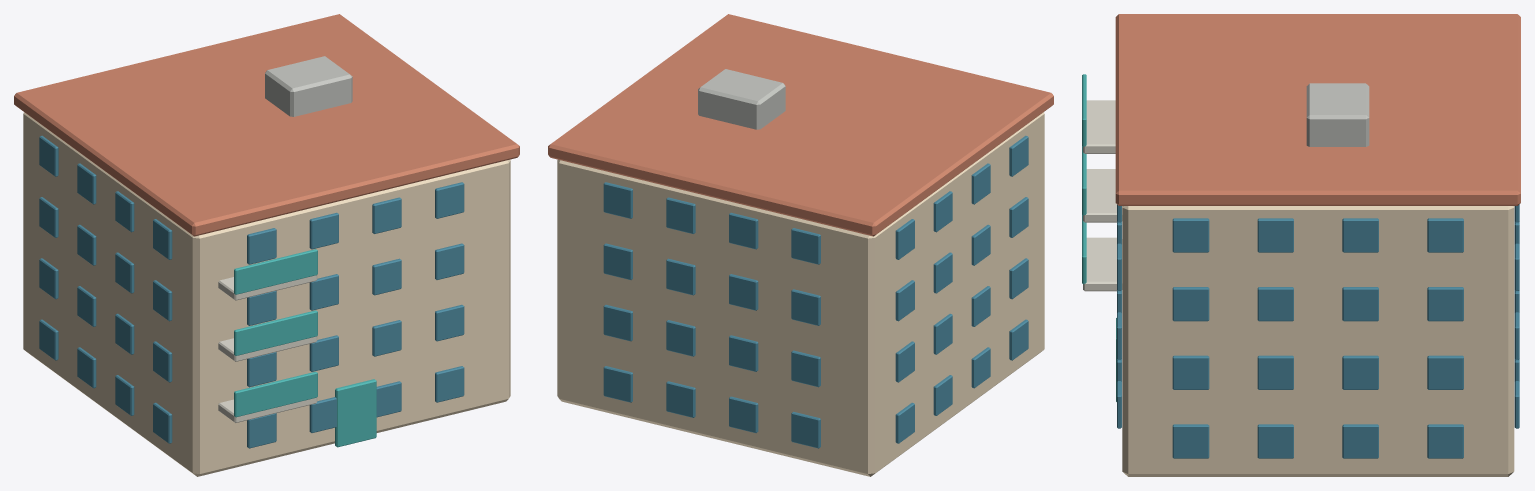
The model's file is RES_MID_2x2_001.glb.
3 views of the same model, side by side, from view 1: azimuth 30°, elevation 25°; view 2: azimuth 150°, elevation 25°; view 3: azimuth 270°, elevation 25° (orthographic). The views are drawn at different scales.
Parts seen in each view (by area): view 1: RES_MID_2x2_001_Visual; view 2: RES_MID_2x2_001_Visual; view 3: RES_MID_2x2_001_Visual.
Boxes of the visible parts, x1,y1,x2,y2 form: RES_MID_2x2_001_Visual: (14,14,519,476); RES_MID_2x2_001_Visual: (548,14,1053,476); RES_MID_2x2_001_Visual: (1082,14,1520,476).
Size of what is drawn, in the model's own units: 3.25 by 2.71 by 3.36.
